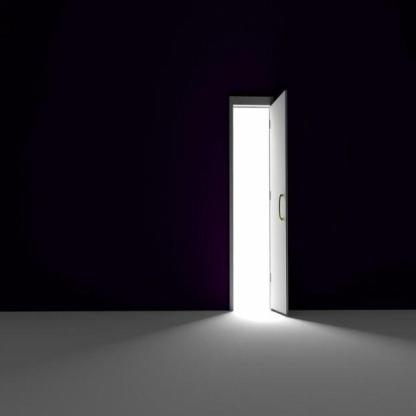door: (224, 84, 291, 322)
